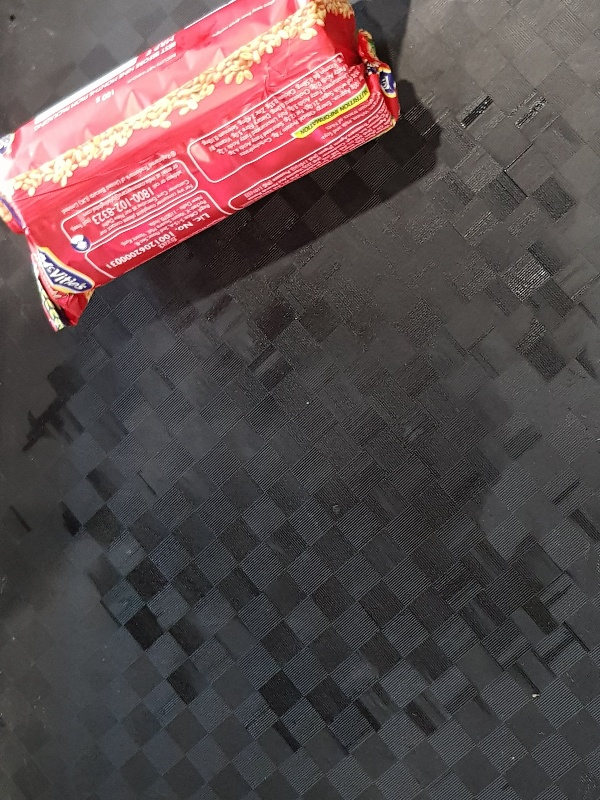McVitie's Wholewheat Marie: (1, 1, 402, 330)
